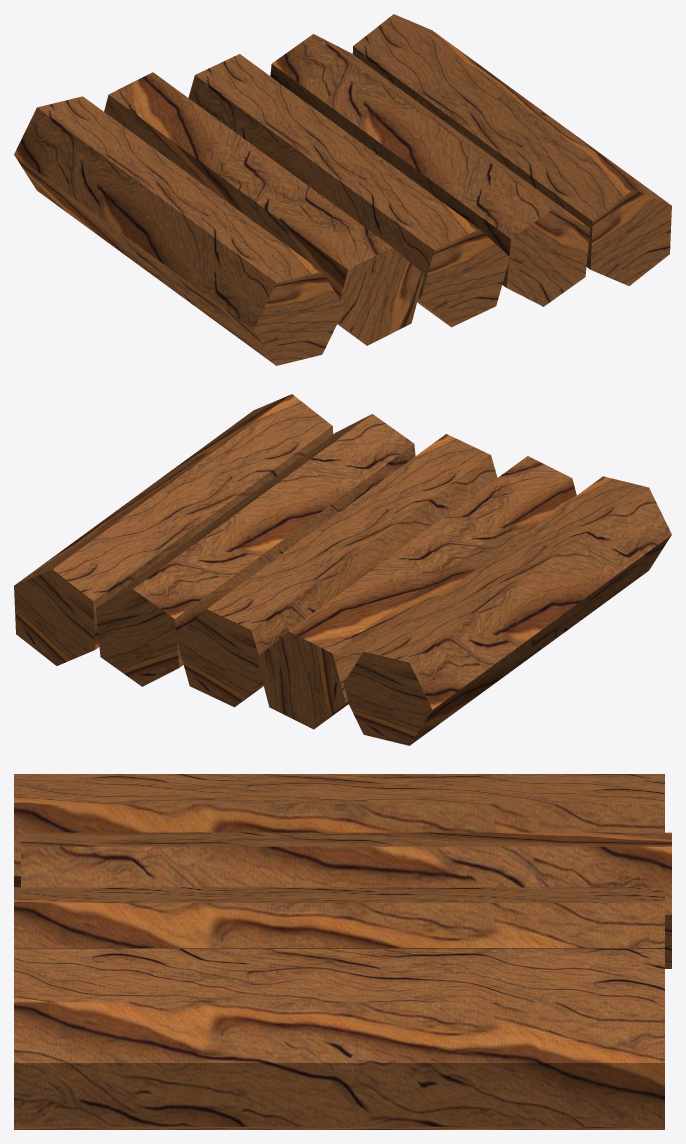
The model's file is platform-wood.glb.
3 views of the same model, one above another, from view 1: azimuth 30°, elevation 25°; view 2: azimuth 150°, elevation 25°; view 3: azimuth 270°, elevation 25° (orthographic). The views are drawn at different scales.
Parts seen in each view (by area): view 1: Cylinder.002, Cylinder.005, Cylinder.004, Cylinder.003, Cylinder.001; view 2: Cylinder.002, Cylinder.005, Cylinder.004, Cylinder.003, Cylinder.001; view 3: Cylinder.005, Cylinder.003, Cylinder.002, Cylinder.001, Cylinder.004.
Part boxes in pixels (x1=…): Cylinder.002: x1=14, y1=96, x2=344, y2=365; Cylinder.005: x1=352, y1=14, x2=671, y2=285; Cylinder.004: x1=270, y1=34, x2=589, y2=306; Cylinder.003: x1=188, y1=54, x2=509, y2=327; Cylinder.001: x1=104, y1=72, x2=424, y2=345; Cylinder.002: x1=343, y1=476, x2=671, y2=745; Cylinder.005: x1=14, y1=394, x2=333, y2=665; Cylinder.004: x1=96, y1=414, x2=415, y2=686; Cylinder.003: x1=176, y1=434, x2=497, y2=707; Cylinder.001: x1=256, y1=456, x2=576, y2=729; Cylinder.005: x1=14, y1=1002, x2=664, y2=1129; Cylinder.003: x1=14, y1=887, x2=664, y2=947; Cylinder.002: x1=14, y1=774, x2=664, y2=887; Cylinder.001: x1=21, y1=832, x2=671, y2=968; Cylinder.004: x1=14, y1=948, x2=664, y2=1002.
Size of what is drawn, in the model's own units: 2.02 by 0.4418 by 2.02.
Materials: 1 (1 with a texture image).
